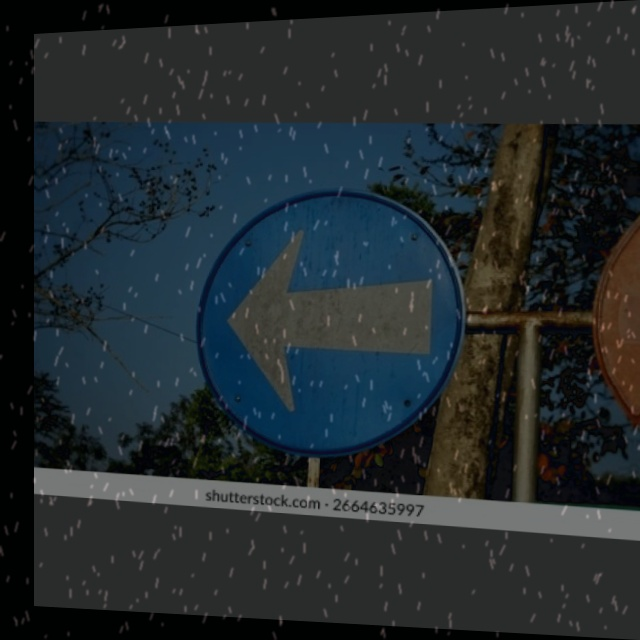Compulsory_Turn_Left: (198, 187, 470, 460)
